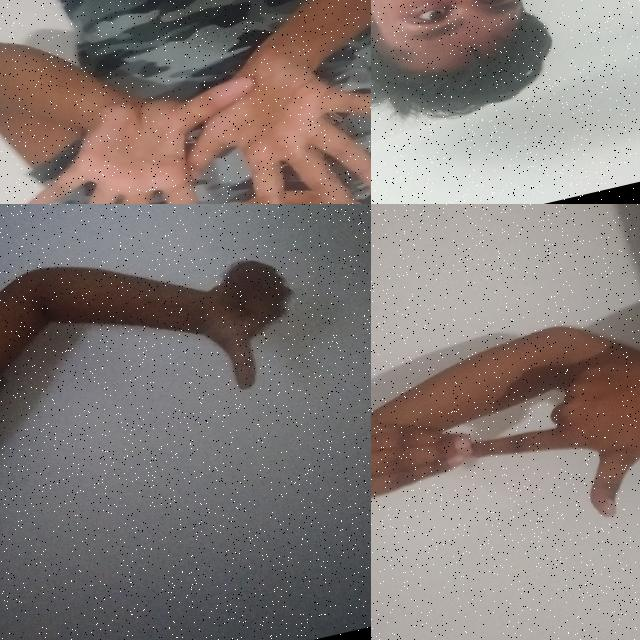Fist Mouth: (371, 0, 616, 147)
Five Fathers: (371, 324, 640, 585)
Moutza: (0, 31, 293, 204), (147, 29, 371, 204)
Thumbs Up: (172, 235, 329, 408)
